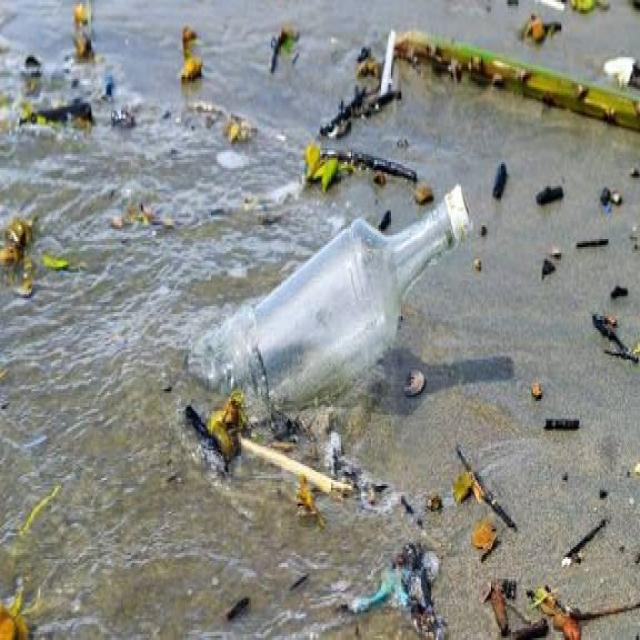glass: (186, 191, 477, 471)
